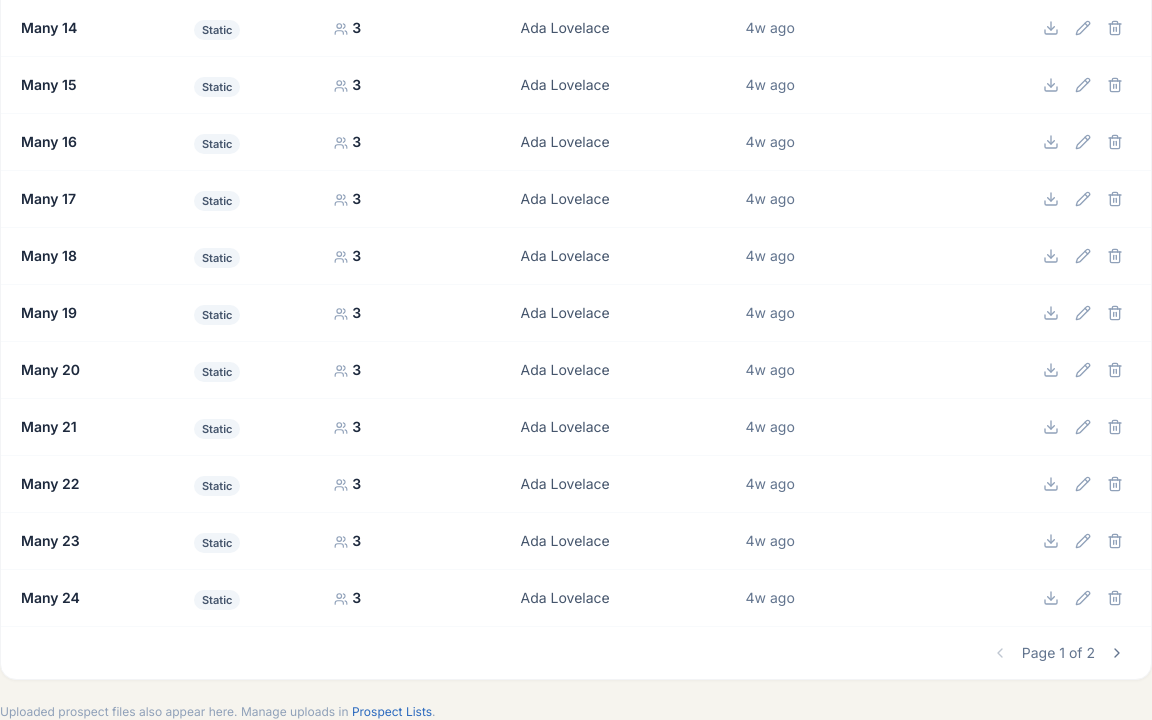
Test: Lists page › asks the server for one page at a time and pages through
(page scrolled)
Click the button named "Next page" at (1117, 653), box [1103, 639, 1131, 667]
(page scrolled)
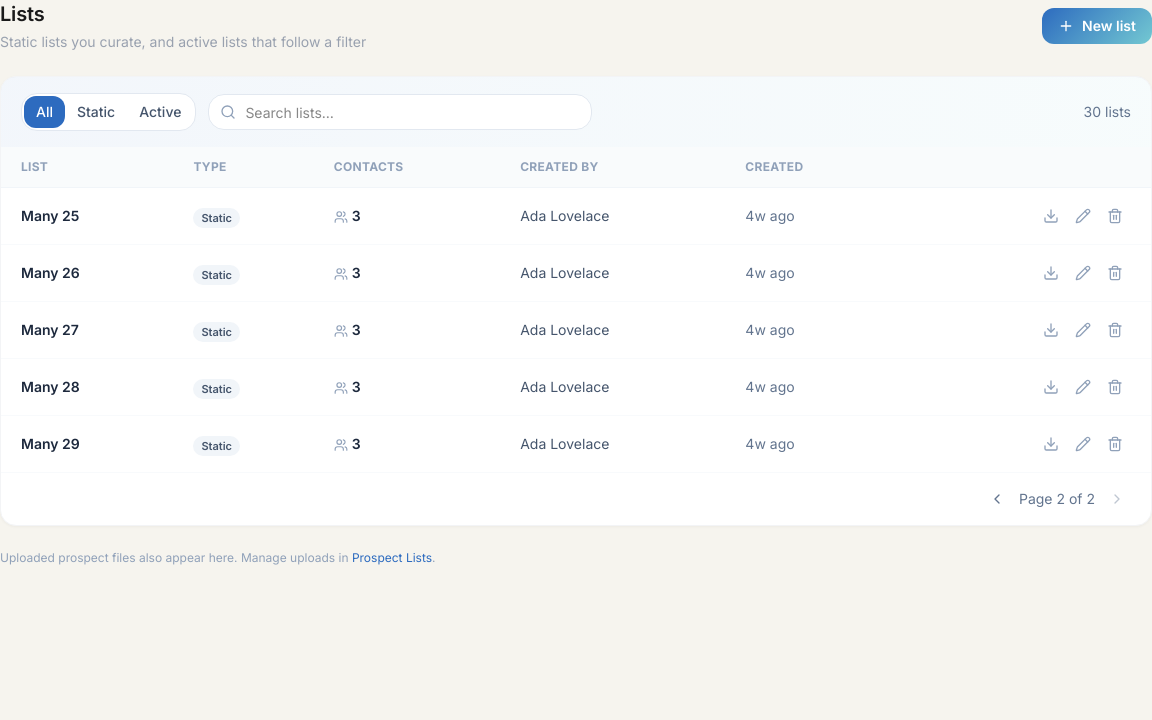
Result: the text "Many 25" is shown at [21, 207, 79, 224]
Result: the text "Page 2 of 2" is shown at [1019, 489, 1095, 509]
